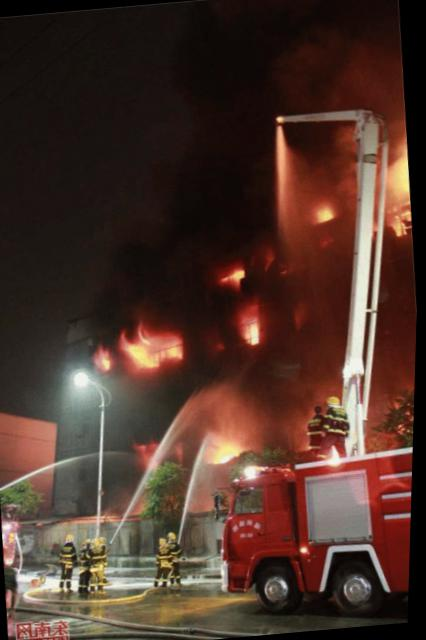fire: (119, 328, 186, 369), (387, 154, 415, 235), (211, 438, 247, 467), (241, 305, 265, 347), (91, 346, 118, 372), (312, 204, 338, 221), (224, 268, 248, 286)
